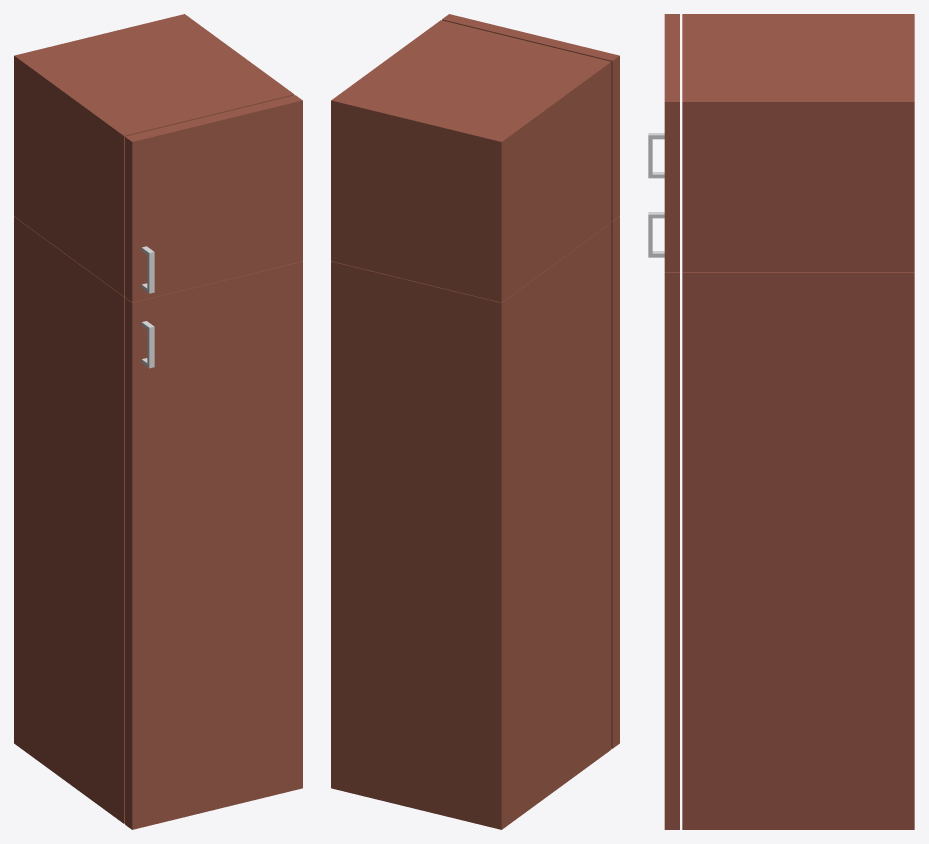
File: SM_tall_cabinet_kitchen.fbx
3 views of the same model, side by side, from view 1: azimuth 30°, elevation 25°; view 2: azimuth 150°, elevation 25°; view 3: azimuth 270°, elevation 25° (orthographic). The views are drawn at different scales.
Visible parts, largest first — view 1: Cube.021, Plane.048; view 2: Cube.021; view 3: Cube.021, Plane.048.
Boxes of the visible parts, x1,y1,x2,y2 form: Cube.021: (14,14,302,829); Plane.048: (141,246,154,368); Cube.021: (331,14,619,829); Cube.021: (664,14,914,829); Plane.048: (648,133,664,257).
Size of the model in its own units: 50 by 193 by 63.88.
